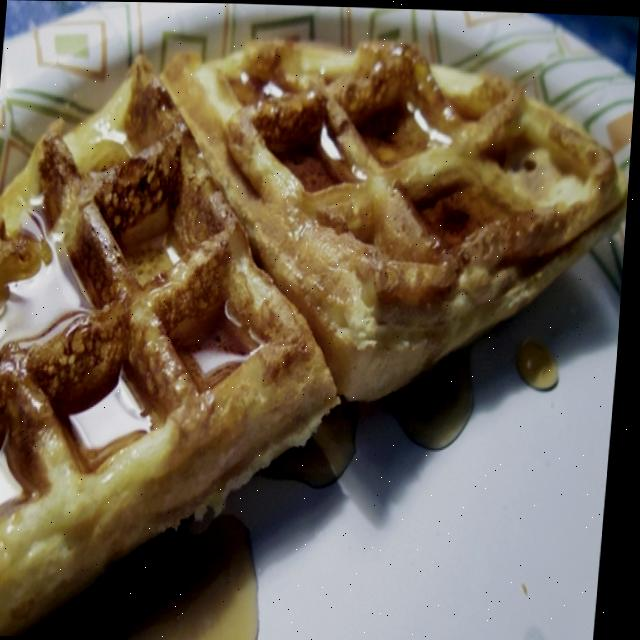炸货点心: (0, 9, 630, 640)
蛋糕甜品: (0, 9, 630, 640)
